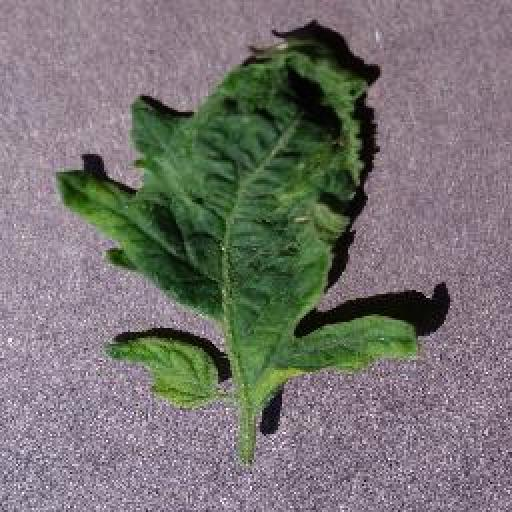Mosaic Virus: (58, 36, 420, 402)
